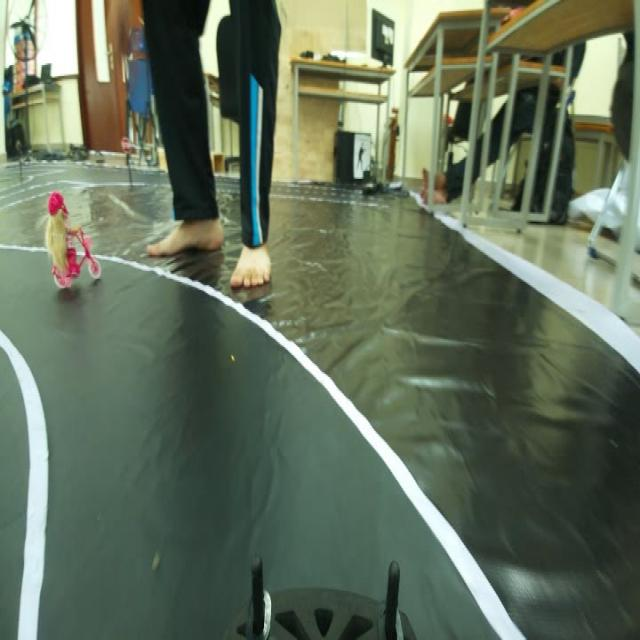pedestrian: (40, 182, 107, 298)
